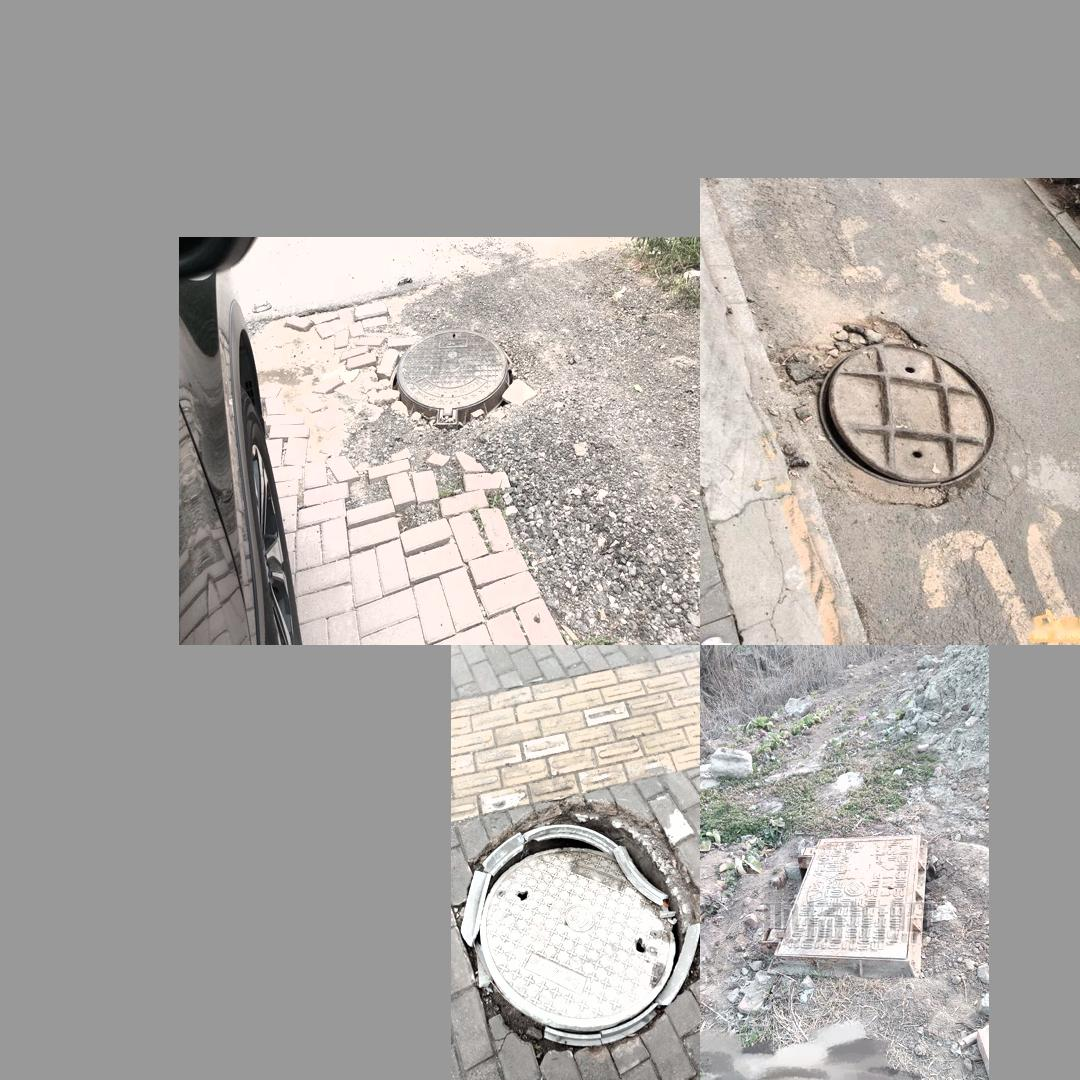circle: (454, 799, 697, 1059), (746, 298, 1012, 531), (350, 300, 547, 463), (761, 830, 933, 981)
